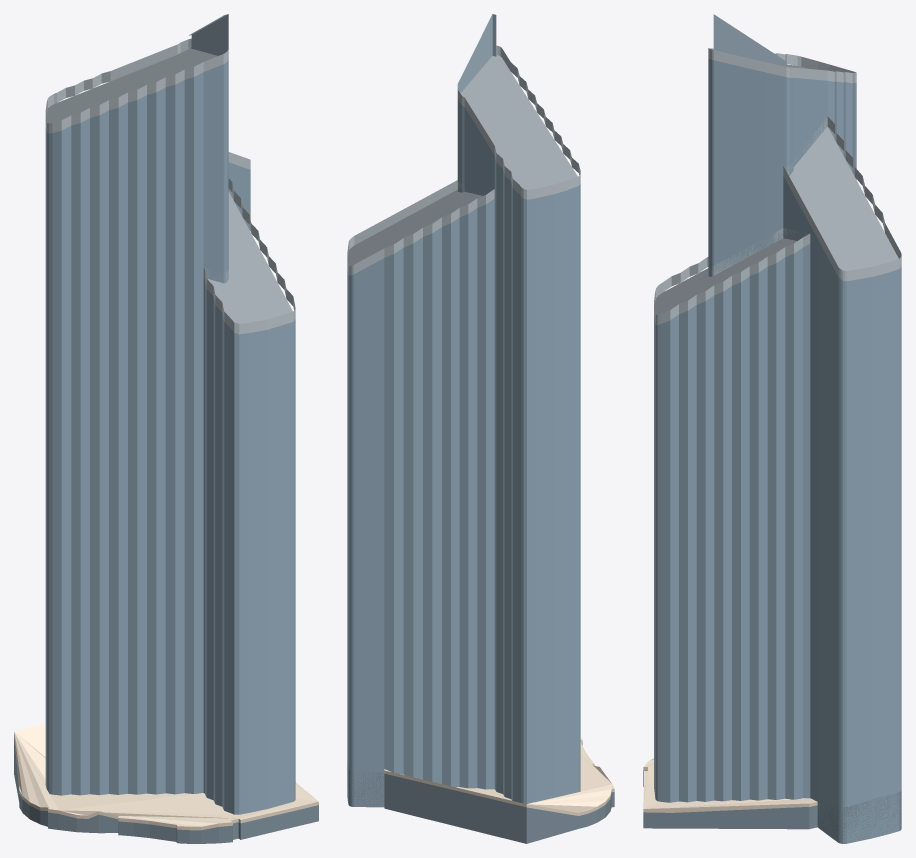
The model's file is paris-tour-first.glb.
3 views of the same model, side by side, from view 1: azimuth 30°, elevation 25°; view 2: azimuth 150°, elevation 25°; view 3: azimuth 270°, elevation 25° (orthographic). The views are drawn at different scales.
Parts seen in each view (by area): view 1: Tour First; view 2: Tour First; view 3: Tour First.
Part boxes in pixels (box(x1,y1,x2,y2)): Tour First: box(14, 14, 318, 843); Tour First: box(347, 14, 614, 843); Tour First: box(643, 14, 901, 843).
Bounding box in the file's own units: 75.2 × 231 × 68.8.
